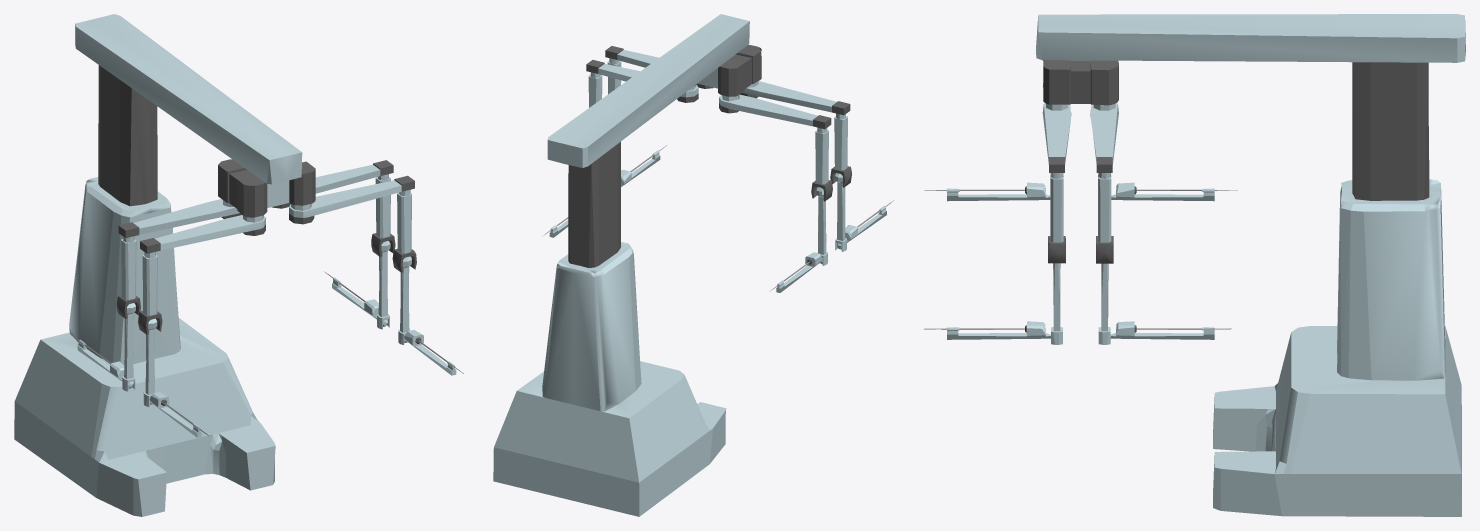
Rendered from da vinci robot.fbx.
3 views of the same model, side by side, from view 1: azimuth 30°, elevation 25°; view 2: azimuth 150°, elevation 25°; view 3: azimuth 270°, elevation 25° (orthographic). The views are drawn at different scales.
Visible parts, largest first — view 1: Base, Arm holder, Part 1.001, Part 1.002, Part 1.003, Part 2.003, Part 2.002, Part 1.004, Part 2.001, Part 2.004, Part 3.003, Part 3.004 (+6 smaller); view 2: Base, Arm holder, Part 1.003, Part 1.002, Part 2.003, Part 2.002, Part 1.004, Part 3.002, Part 1.001, Part 3.003, Needle.003, Needle.002; view 3: Base, Arm holder, Part 1.001, Part 1.004, Part 2.001, Part 2.004, Needle.001, Needle.002, Needle.003, Needle.004, Part 3.004, Part 3.001.
Part boxes in pixels (x1,y1,x2,y2): Base: [14, 14, 302, 516]; Arm holder: [218, 159, 315, 217]; Part 1.001: [289, 175, 414, 224]; Part 1.002: [140, 215, 265, 253]; Part 1.003: [118, 199, 241, 237]; Part 2.003: [116, 236, 140, 319]; Part 2.002: [138, 252, 162, 334]; Part 1.004: [272, 160, 393, 208]; Part 2.001: [392, 189, 416, 272]; Part 2.004: [371, 174, 395, 257]; Part 3.003: [122, 303, 135, 391]; Part 3.004: [377, 241, 390, 329]; Base: [493, 14, 749, 516]; Arm holder: [695, 45, 761, 96]; Part 1.003: [719, 94, 831, 129]; Part 1.002: [739, 81, 850, 115]; Part 2.003: [811, 127, 832, 201]; Part 2.002: [830, 113, 851, 187]; Part 1.004: [586, 60, 698, 102]; Part 3.002: [834, 173, 846, 251]; Part 1.001: [605, 46, 713, 88]; Part 3.003: [816, 187, 827, 265]; Needle.003: [769, 252, 822, 292]; Needle.002: [837, 200, 893, 249]; Base: [1036, 14, 1465, 516]; Arm holder: [1043, 60, 1118, 105]; Part 1.001: [1042, 103, 1071, 172]; Part 1.004: [1090, 103, 1118, 172]; Part 2.001: [1048, 173, 1065, 263]; Part 2.004: [1096, 173, 1113, 263]; Needle.001: [924, 321, 1050, 339]; Needle.002: [924, 182, 1050, 201]; Needle.003: [1111, 182, 1237, 201]; Needle.004: [1110, 321, 1231, 339]; Part 3.004: [1098, 263, 1110, 344]; Part 3.001: [1051, 263, 1062, 344].
Size of the model in its own units: 227 by 319 by 350.
